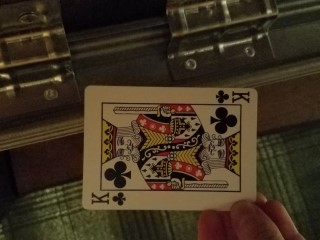KingOfClubs: (82, 84, 259, 213)
